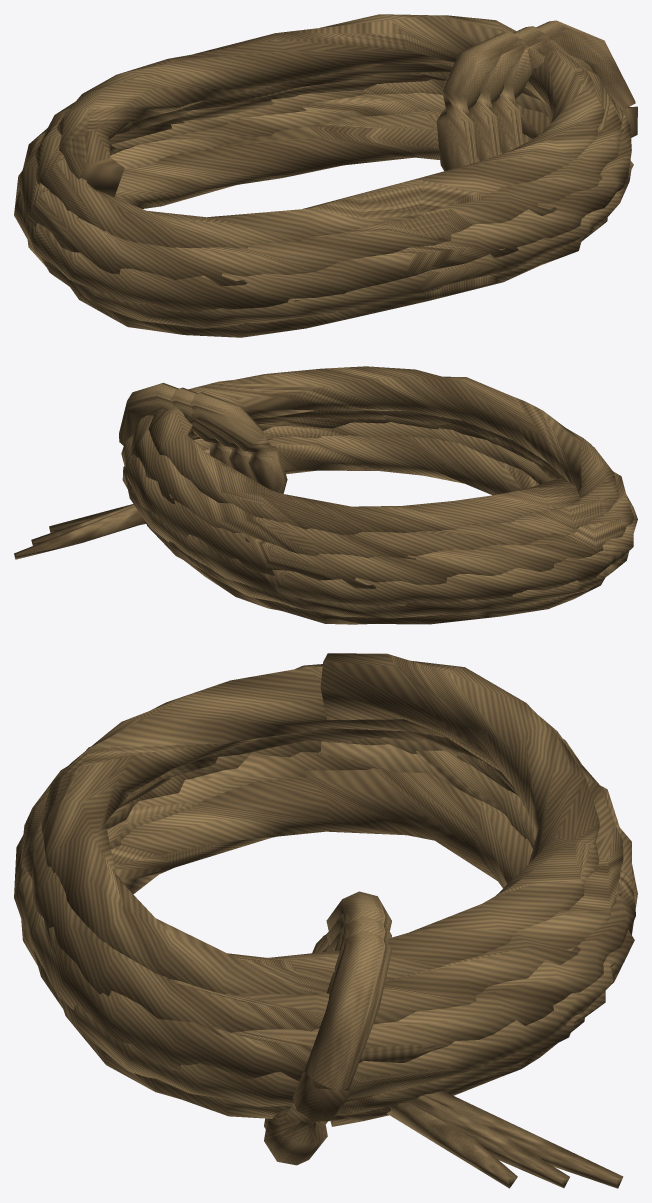
File: rope_coil.glb
3 views of the same model, one above another, from view 1: azimuth 30°, elevation 25°; view 2: azimuth 150°, elevation 25°; view 3: azimuth 270°, elevation 25° (orthographic). The views are drawn at different scales.
Visible parts, largest first — view 1: Rope_Coil; view 2: Rope_Coil; view 3: Rope_Coil.
Part boxes in pixels (x1,y1,x2,y2): Rope_Coil: [14, 14, 637, 337]; Rope_Coil: [14, 366, 637, 624]; Rope_Coil: [14, 653, 637, 1188].
Bounding box in the file's own units: 0.2366 × 0.0647 × 0.1622.
Materials: 1 (1 with a texture image).
